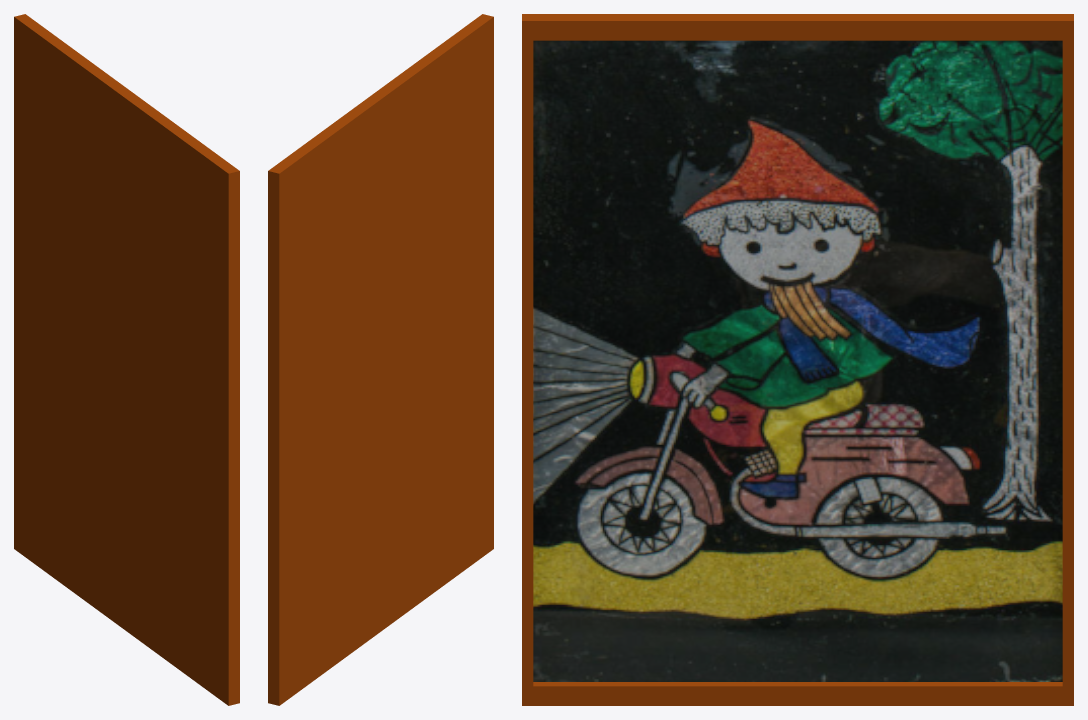
Rendered from obj_pictureframe_Sandmann.obj.
The picture shows the model from 3 angles, left to right: view 1: azimuth 30°, elevation 25°; view 2: azimuth 150°, elevation 25°; view 3: azimuth 270°, elevation 25°; orthographic projection. The views are drawn at different scales.
Visible parts, largest first — view 1: Cube.007; view 2: Cube.007; view 3: Cube.007.
Part boxes in pixels (x1,y1,x2,y2): Cube.007: (14,14,239,705); Cube.007: (268,14,493,705); Cube.007: (522,14,1073,705).
Bounding box in the file's own units: 0.0198 × 0.8892 × 0.6494.
